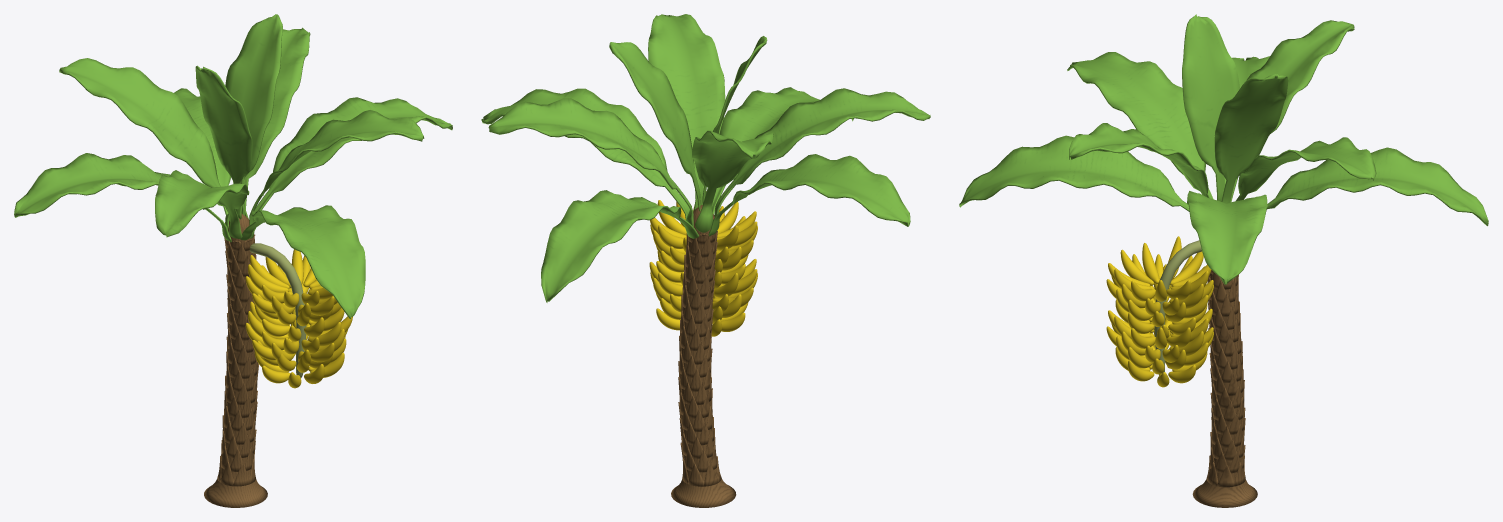
File: platanera finca.fbx
The picture shows the model from 3 angles, left to right: view 1: azimuth 30°, elevation 25°; view 2: azimuth 150°, elevation 25°; view 3: azimuth 270°, elevation 25°; orthographic projection.
Visible parts, largest first — view 1: Hoja_4, Vainas_tronco, Hoja_7, Hoja_9, Hoja_5, Hoja_1, Hoja_10, Hoja_6, Hoja_8, Hoja_2, Tronco, Pedunculo (+1 smaller); view 2: Vainas_tronco, Hoja_3, Hoja_8, Hoja_6, Hoja_2, Hoja_5, Hoja_9, Hoja_4, Hoja_1, Tronco, Hoja_7, Hoja_10; view 3: Hoja_7, Hoja_6, Vainas_tronco, Hoja_3, Hoja_10, Hoja_9, Hoja_1, Hoja_4, Hoja_2, Hoja_8, Tronco, Pedunculo.
Part boxes in pixels (x1,y1,x2,y2): Hoja_4: (59, 58, 229, 229); Vainas_tronco: (217, 234, 258, 486); Hoja_7: (240, 205, 365, 318); Hoja_9: (225, 14, 282, 215); Hoja_5: (14, 153, 231, 242); Hoja_1: (254, 97, 452, 230); Hoja_10: (195, 65, 252, 219); Hoja_6: (155, 170, 249, 238); Hoja_8: (249, 110, 424, 238); Hoja_2: (243, 27, 310, 219); Tronco: (204, 213, 267, 507); Pedunculo: (249, 243, 306, 377); Vainas_tronco: (678, 231, 721, 486); Hoja_3: (541, 190, 698, 302); Hoja_8: (648, 14, 725, 210); Hoja_6: (714, 88, 930, 216); Hoja_2: (488, 98, 693, 226); Hoja_5: (708, 154, 910, 236); Hoja_9: (609, 42, 700, 210); Hoja_4: (692, 130, 773, 232); Hoja_1: (481, 88, 689, 220); Tronco: (671, 205, 736, 507); Hoja_7: (711, 87, 853, 214); Hoja_10: (702, 36, 767, 203); Hoja_7: (959, 135, 1189, 211); Hoja_6: (1067, 52, 1213, 198); Vainas_tronco: (1206, 270, 1245, 487); Hoja_3: (1267, 147, 1488, 226); Hoja_10: (1182, 14, 1239, 201); Hoja_9: (1214, 74, 1288, 203); Hoja_1: (1187, 191, 1267, 284); Hoja_4: (1230, 20, 1354, 202); Hoja_2: (1236, 137, 1376, 200); Hoja_8: (1069, 123, 1209, 198); Tronco: (1192, 273, 1257, 507); Pedunculo: (1154, 240, 1201, 375).
Bounding box in the file's own units: 345 × 347 × 364.
4 materials, 4 textured.
